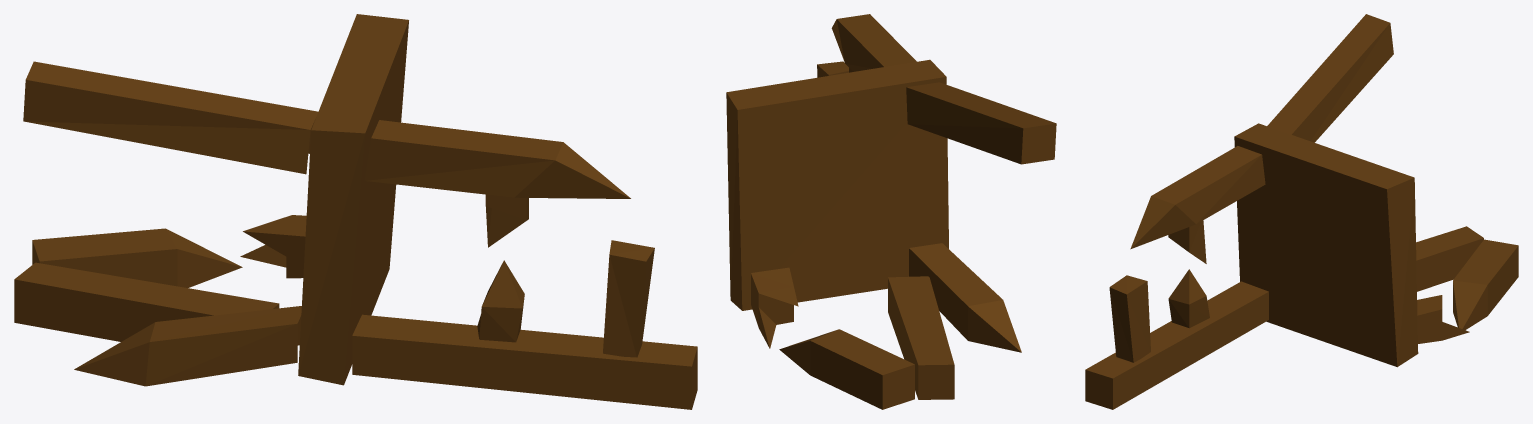
The model's file is obj_smashed_chair_0.obj.
3 views of the same model, side by side, from view 1: azimuth 30°, elevation 25°; view 2: azimuth 150°, elevation 25°; view 3: azimuth 270°, elevation 25° (orthographic). The views are drawn at different scales.
Size of the model in its own units: 0.9375 by 0.5547 by 0.9766.
